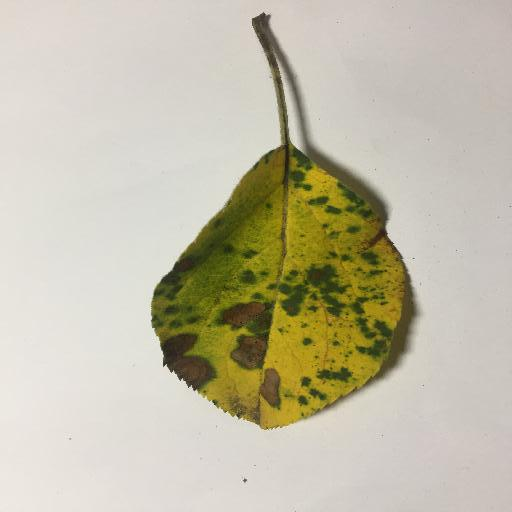Brown_Spot: (365, 232, 406, 280), (170, 350, 213, 384), (260, 368, 285, 405), (235, 339, 268, 365), (221, 305, 262, 321), (164, 330, 193, 351), (176, 257, 193, 269)
